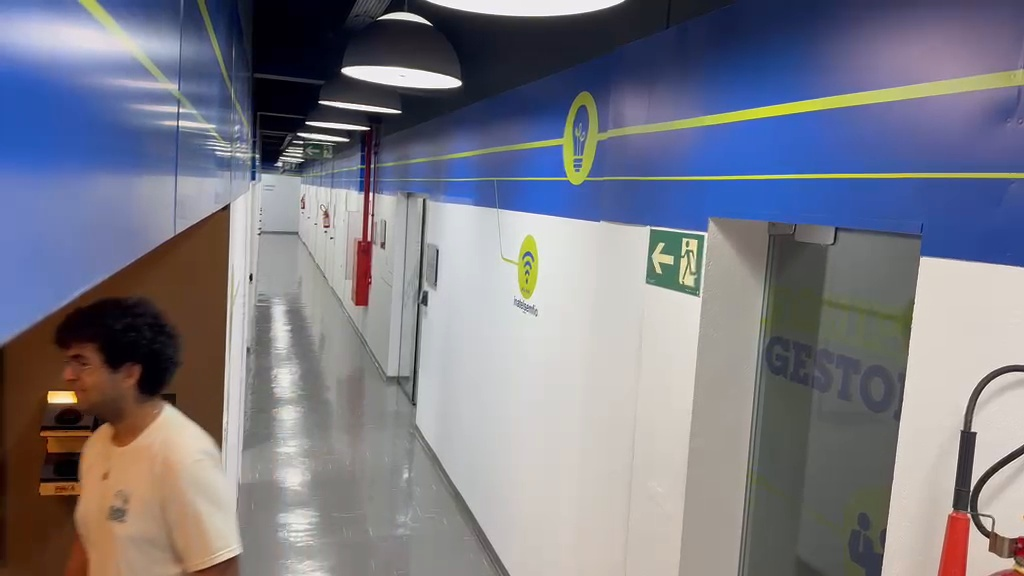person: (54, 295, 243, 573)
